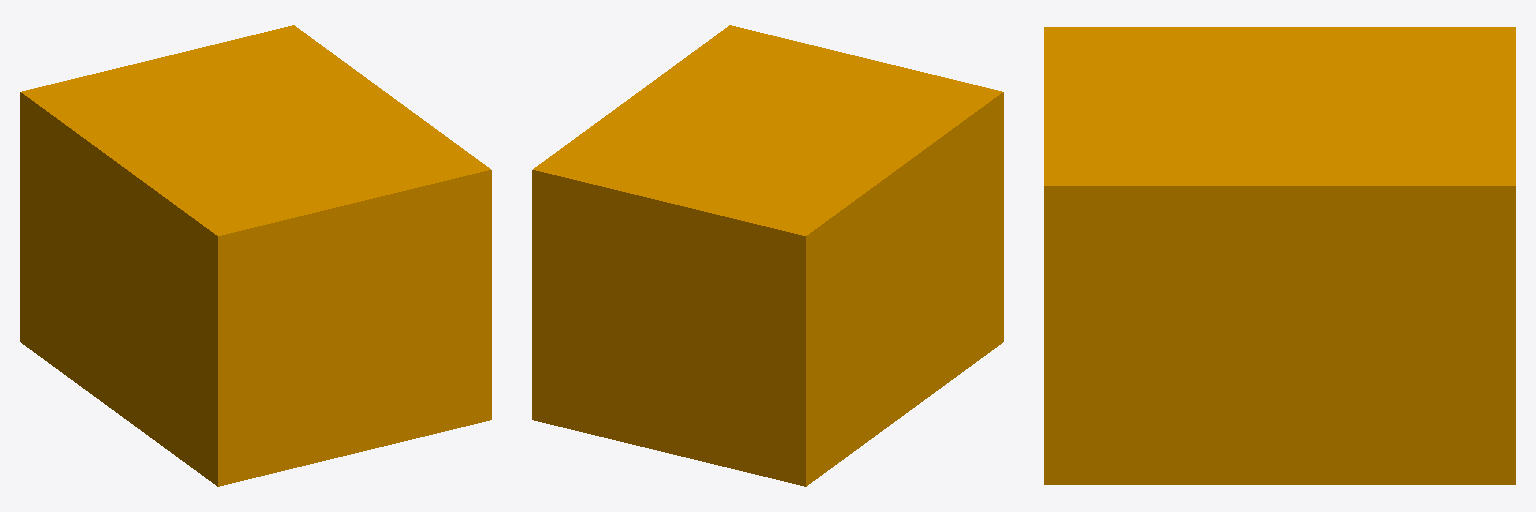
The robot description file, URDF, robot "lerobot_legs":
<?xml version="1.0"?>
<!--
  lerobot_legs URDF for PyBullet. Same 12-DOF bipedal topology and link geometry
  as lerobot_legs.xml (MuJoCo/mjlab) so the SAME policy faces the same robot in
  every simulator. Joint order matches configs/robot/lerobot_legs.yaml.
  Stand-in for the LeRobot Humanoid legs; swap in lerobot-humanoid-model assets
  for high fidelity.
-->
<robot name="lerobot_legs">

  <link name="pelvis">
    <inertial><mass value="8.0"/><inertia ixx="0.06" iyy="0.05" izz="0.05" ixy="0" ixz="0" iyz="0"/></inertial>
    <collision><geometry><box size="0.16 0.20 0.14"/></geometry></collision>
    <visual><geometry><box size="0.16 0.20 0.14"/></geometry></visual>
  </link>

  <!-- Per leg link/joint pattern (L shown; R mirrored on y):
       pelvis -(0,0.085,-0.05),z- hip_yaw -(0),x- hip_roll -(0),y- hip_pitch[thigh]
       -(0,0,-0.24),y- knee[shank] -(0,0,-0.24),y- ankle_pitch -(0),x- ankle_roll[foot] -->

  <!-- ===================== LEFT ===================== -->
  <link name="L_hip_yaw"><inertial><mass value="0.8"/><inertia ixx="0.001" iyy="0.001" izz="0.001" ixy="0" ixz="0" iyz="0"/></inertial><collision><geometry><sphere radius="0.04"/></geometry></collision></link>
  <link name="L_hip_roll"><inertial><mass value="0.6"/><inertia ixx="0.001" iyy="0.001" izz="0.001" ixy="0" ixz="0" iyz="0"/></inertial><collision><geometry><sphere radius="0.035"/></geometry></collision></link>
  <link name="L_hip_pitch">
    <inertial><origin xyz="0 0 -0.12"/><mass value="2.0"/><inertia ixx="0.012" iyy="0.012" izz="0.001" ixy="0" ixz="0" iyz="0"/></inertial>
    <collision><origin xyz="0 0 -0.12"/><geometry><cylinder radius="0.03" length="0.24"/></geometry></collision>
  </link>
  <link name="L_knee">
    <inertial><origin xyz="0 0 -0.12"/><mass value="1.4"/><inertia ixx="0.008" iyy="0.008" izz="0.0008" ixy="0" ixz="0" iyz="0"/></inertial>
    <collision><origin xyz="0 0 -0.12"/><geometry><cylinder radius="0.026" length="0.24"/></geometry></collision>
  </link>
  <link name="L_ankle_pitch"><inertial><mass value="0.3"/><inertia ixx="0.0005" iyy="0.0005" izz="0.0005" ixy="0" ixz="0" iyz="0"/></inertial><collision><geometry><sphere radius="0.03"/></geometry></collision></link>
  <link name="L_ankle_roll">
    <inertial><origin xyz="0.03 0 -0.04"/><mass value="0.6"/><inertia ixx="0.001" iyy="0.002" izz="0.002" ixy="0" ixz="0" iyz="0"/></inertial>
    <collision><origin xyz="0.03 0 -0.04"/><geometry><box size="0.20 0.09 0.04"/></geometry></collision>
  </link>
  <joint name="L_hip_yaw" type="revolute"><parent link="pelvis"/><child link="L_hip_yaw"/><origin xyz="0 0.085 -0.05"/><axis xyz="0 0 1"/><limit lower="-2.6" upper="2.6" effort="80" velocity="20"/></joint>
  <joint name="L_hip_roll" type="revolute"><parent link="L_hip_yaw"/><child link="L_hip_roll"/><origin xyz="0 0 0"/><axis xyz="1 0 0"/><limit lower="-2.6" upper="2.6" effort="80" velocity="20"/></joint>
  <joint name="L_hip_pitch" type="revolute"><parent link="L_hip_roll"/><child link="L_hip_pitch"/><origin xyz="0 0 0"/><axis xyz="0 1 0"/><limit lower="-2.6" upper="2.6" effort="80" velocity="20"/></joint>
  <joint name="L_knee" type="revolute"><parent link="L_hip_pitch"/><child link="L_knee"/><origin xyz="0 0 -0.24"/><axis xyz="0 1 0"/><limit lower="0" upper="2.6" effort="80" velocity="20"/></joint>
  <joint name="L_ankle_pitch" type="revolute"><parent link="L_knee"/><child link="L_ankle_pitch"/><origin xyz="0 0 -0.24"/><axis xyz="0 1 0"/><limit lower="-2.6" upper="2.6" effort="60" velocity="20"/></joint>
  <joint name="L_ankle_roll" type="revolute"><parent link="L_ankle_pitch"/><child link="L_ankle_roll"/><origin xyz="0 0 0"/><axis xyz="1 0 0"/><limit lower="-2.6" upper="2.6" effort="60" velocity="20"/></joint>

  <!-- ===================== RIGHT ===================== -->
  <link name="R_hip_yaw"><inertial><mass value="0.8"/><inertia ixx="0.001" iyy="0.001" izz="0.001" ixy="0" ixz="0" iyz="0"/></inertial><collision><geometry><sphere radius="0.04"/></geometry></collision></link>
  <link name="R_hip_roll"><inertial><mass value="0.6"/><inertia ixx="0.001" iyy="0.001" izz="0.001" ixy="0" ixz="0" iyz="0"/></inertial><collision><geometry><sphere radius="0.035"/></geometry></collision></link>
  <link name="R_hip_pitch">
    <inertial><origin xyz="0 0 -0.12"/><mass value="2.0"/><inertia ixx="0.012" iyy="0.012" izz="0.001" ixy="0" ixz="0" iyz="0"/></inertial>
    <collision><origin xyz="0 0 -0.12"/><geometry><cylinder radius="0.03" length="0.24"/></geometry></collision>
  </link>
  <link name="R_knee">
    <inertial><origin xyz="0 0 -0.12"/><mass value="1.4"/><inertia ixx="0.008" iyy="0.008" izz="0.0008" ixy="0" ixz="0" iyz="0"/></inertial>
    <collision><origin xyz="0 0 -0.12"/><geometry><cylinder radius="0.026" length="0.24"/></geometry></collision>
  </link>
  <link name="R_ankle_pitch"><inertial><mass value="0.3"/><inertia ixx="0.0005" iyy="0.0005" izz="0.0005" ixy="0" ixz="0" iyz="0"/></inertial><collision><geometry><sphere radius="0.03"/></geometry></collision></link>
  <link name="R_ankle_roll">
    <inertial><origin xyz="0.03 0 -0.04"/><mass value="0.6"/><inertia ixx="0.001" iyy="0.002" izz="0.002" ixy="0" ixz="0" iyz="0"/></inertial>
    <collision><origin xyz="0.03 0 -0.04"/><geometry><box size="0.20 0.09 0.04"/></geometry></collision>
  </link>
  <joint name="R_hip_yaw" type="revolute"><parent link="pelvis"/><child link="R_hip_yaw"/><origin xyz="0 -0.085 -0.05"/><axis xyz="0 0 1"/><limit lower="-2.6" upper="2.6" effort="80" velocity="20"/></joint>
  <joint name="R_hip_roll" type="revolute"><parent link="R_hip_yaw"/><child link="R_hip_roll"/><origin xyz="0 0 0"/><axis xyz="1 0 0"/><limit lower="-2.6" upper="2.6" effort="80" velocity="20"/></joint>
  <joint name="R_hip_pitch" type="revolute"><parent link="R_hip_roll"/><child link="R_hip_pitch"/><origin xyz="0 0 0"/><axis xyz="0 1 0"/><limit lower="-2.6" upper="2.6" effort="80" velocity="20"/></joint>
  <joint name="R_knee" type="revolute"><parent link="R_hip_pitch"/><child link="R_knee"/><origin xyz="0 0 -0.24"/><axis xyz="0 1 0"/><limit lower="0" upper="2.6" effort="80" velocity="20"/></joint>
  <joint name="R_ankle_pitch" type="revolute"><parent link="R_knee"/><child link="R_ankle_pitch"/><origin xyz="0 0 -0.24"/><axis xyz="0 1 0"/><limit lower="-2.6" upper="2.6" effort="60" velocity="20"/></joint>
  <joint name="R_ankle_roll" type="revolute"><parent link="R_ankle_pitch"/><child link="R_ankle_roll"/><origin xyz="0 0 0"/><axis xyz="1 0 0"/><limit lower="-2.6" upper="2.6" effort="60" velocity="20"/></joint>

</robot>

--- What the picture shows (computed from the rendered views, not written in the file) ---
The picture shows the robot from 3 angles, left to right: view 1: azimuth 30°, elevation 25°; view 2: azimuth 150°, elevation 25°; view 3: azimuth 270°, elevation 25°; orthographic projection.
Model lerobot_legs with 13 links and 12 joints (12 revolute), rooted at pelvis, posed all joints at 0.
Links seen in each view (by area): view 1: pelvis; view 2: pelvis; view 3: pelvis.
Boxes of the visible links, <box> form: pelvis: <box>20,25,491,486</box>; pelvis: <box>532,25,1003,486</box>; pelvis: <box>1044,27,1515,484</box>.
Bounding box of the posed robot: 0.16 × 0.2 × 0.14 m (x, y, z).
Geometry: primitives only (box / cylinder / sphere), no mesh files.
